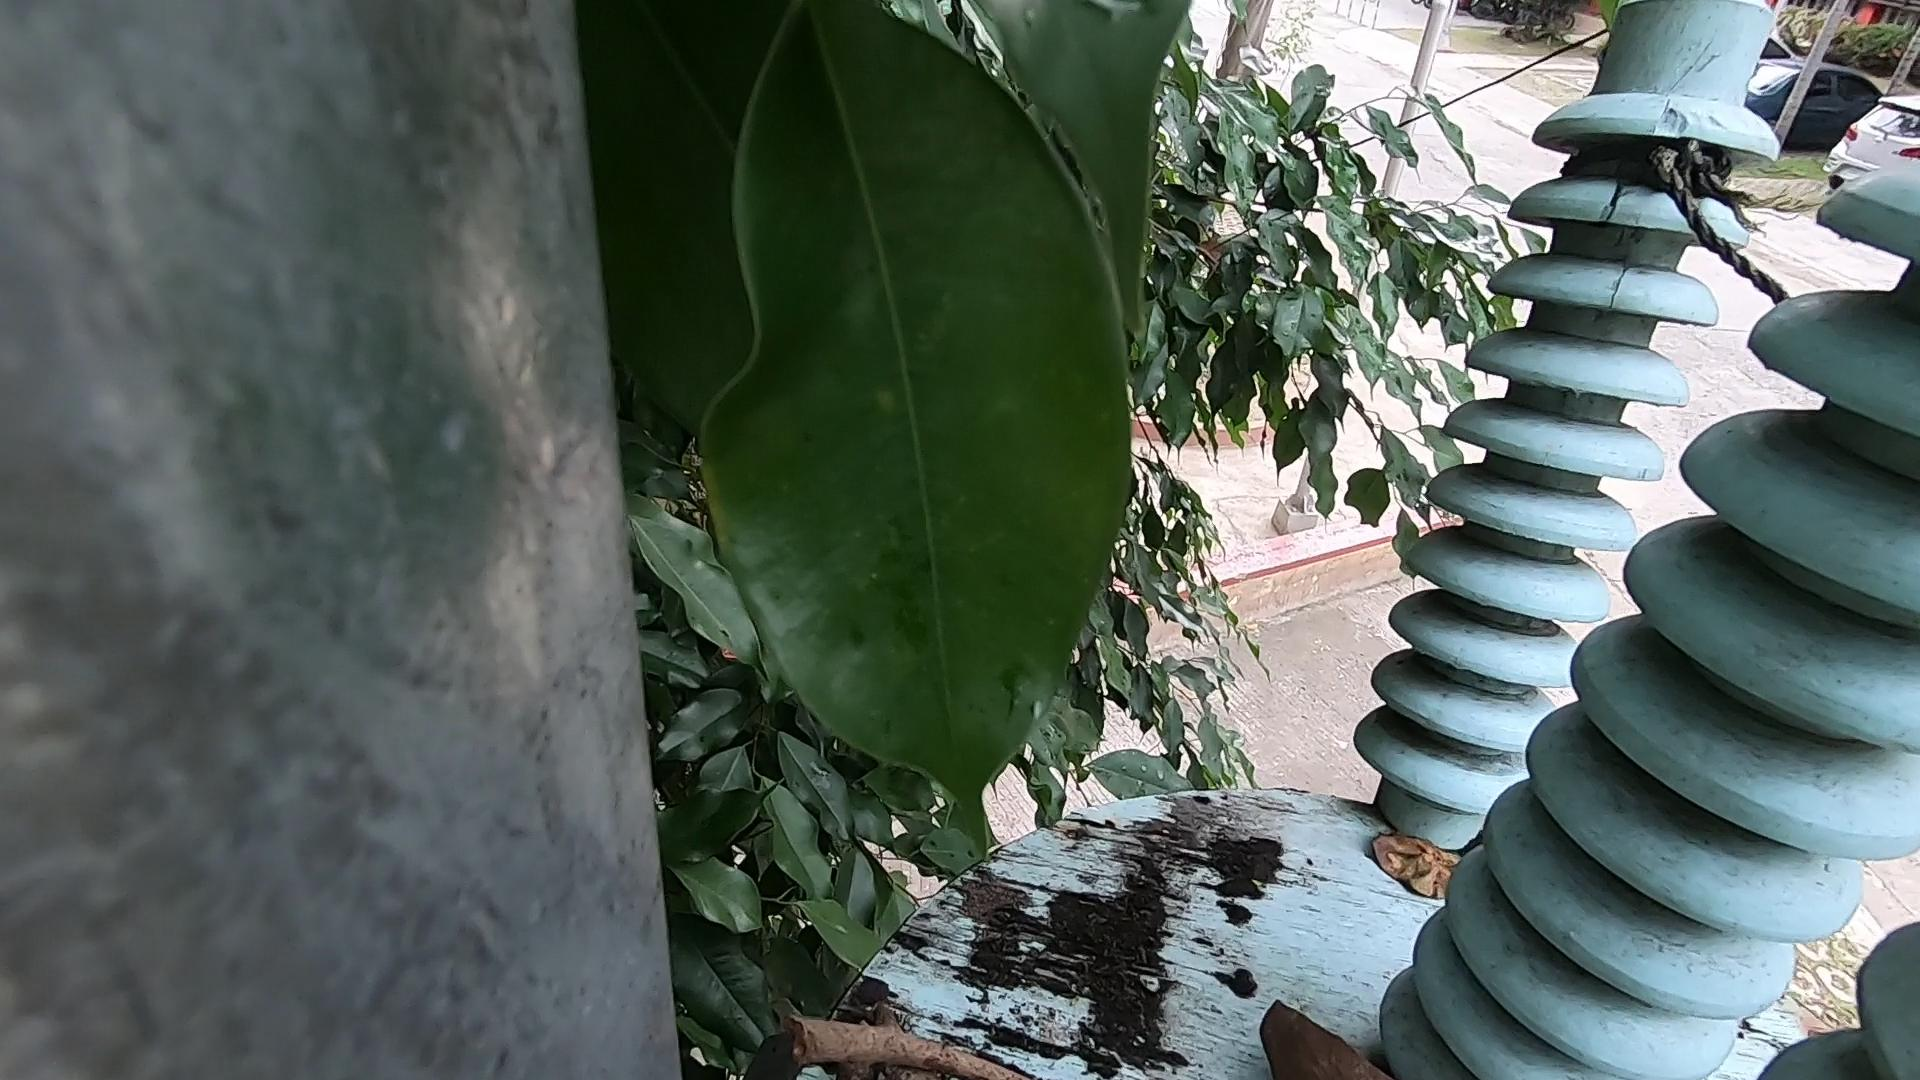branch with leaves: (764, 1005, 1013, 1080)
leaf: (1342, 823, 1499, 919)
mahogany fruit: (1222, 971, 1364, 1080)
